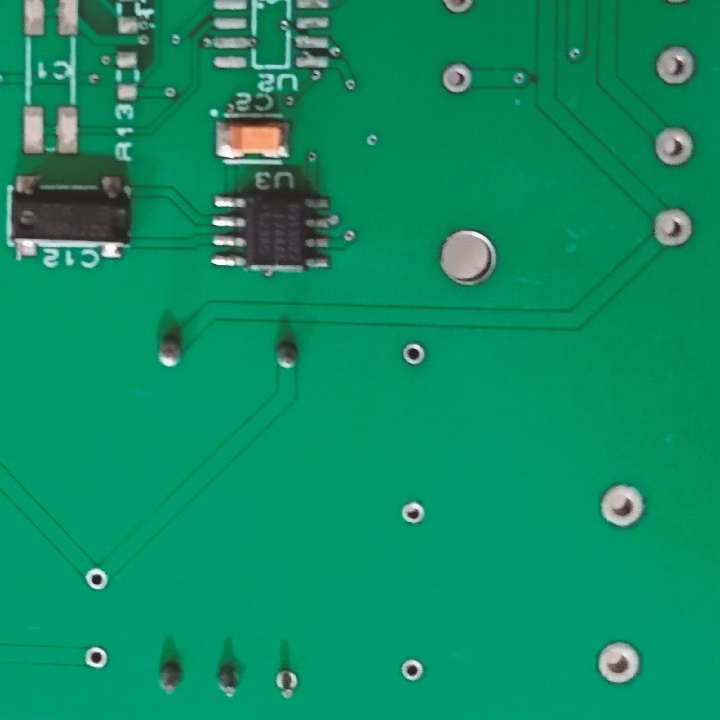F: (596, 480, 647, 532), (594, 640, 644, 688), (652, 41, 697, 89), (652, 123, 697, 169), (652, 204, 694, 253), (436, 60, 474, 95), (273, 666, 302, 701), (84, 641, 112, 671), (439, 1, 479, 22), (400, 338, 427, 369), (399, 498, 426, 527), (83, 565, 110, 592), (399, 657, 424, 684)
